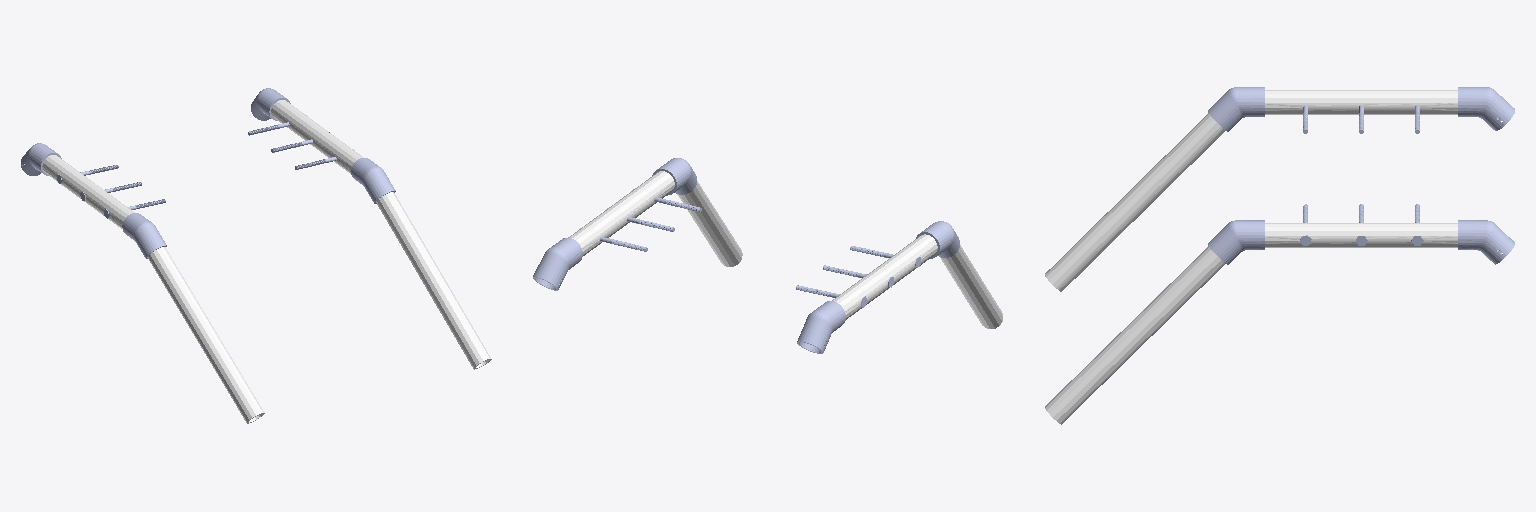
URDF robot description (model):
<?xml version="1.0" encoding="utf-8"?>
<!-- This URDF was automatically created by SolidWorks to URDF Exporter! Originally created by [author] ([email redacted]) 
     Commit Version: 1.6.0-4-g7f85cfe  Build Version: 1.6.7995.38578
     For more information, please see http://wiki.ros.org/sw_urdf_exporter -->
<robot
  name="model">
  <link
    name="base_link">
    <inertial>
      <origin
        xyz="-0.29968731948345 0.0150546907286856 0.283392114189934"
        rpy="0 0 0" />
      <mass
        value="2.34759592693503" />
      <inertia
        ixx="0.015530206027633"
        ixy="-4.93691539468484E-08"
        ixz="-4.63940097546656E-09"
        iyy="0.0296746402403189"
        iyz="-1.66552412321422E-08"
        izz="0.0155302069570008" />
    </inertial>
    <visual>
      <origin
        xyz="0 0 0"
        rpy="0 0 0" />
      <geometry>
        <mesh
          filename="package://model/meshes/base_link.STL" />
      </geometry>
      <material
        name="">
        <color
          rgba="1 1 1 1" />
      </material>
    </visual>
    <collision>
      <origin
        xyz="0 0 0"
        rpy="0 0 0" />
      <geometry>
        <mesh
          filename="package://model/meshes/base_link.STL" />
      </geometry>
    </collision>
  </link>
  <link
    name="j1">
    <inertial>
      <origin
        xyz="-2.96759241261157E-06 -3.56797101691564E-06 0.0752200553446624"
        rpy="0 0 0" />
      <mass
        value="0.0124427599561808" />
      <inertia
        ixx="2.88418476788695E-05"
        ixy="-6.3944784898376E-10"
        ixz="1.80748708345519E-09"
        iyy="2.88418985524994E-05"
        iyz="2.83899232833153E-09"
        izz="1.79907701813498E-07" />
    </inertial>
    <visual>
      <origin
        xyz="0 0 0"
        rpy="0 0 0" />
      <geometry>
        <mesh
          filename="package://model/meshes/j1.STL" />
      </geometry>
      <material
        name="">
        <color
          rgba="0.792156862745098 0.819607843137255 0.933333333333333 1" />
      </material>
    </visual>
    <collision>
      <origin
        xyz="0 0 0"
        rpy="0 0 0" />
      <geometry>
        <mesh
          filename="package://model/meshes/j1.STL" />
      </geometry>
    </collision>
  </link>
  <joint
    name="j1j"
    type="fixed">
    <origin
      xyz="-0.640703845182197 -0.170892114190977 0.0171571743856401"
      rpy="1.61425121647005 -0.973396199657673 1.53486063302741" />
    <parent
      link="base_link" />
    <child
      link="j1" />
    <axis
      xyz="0 0 0" />
  </joint>
  <link
    name="j2">
    <inertial>
      <origin
        xyz="-4.02273658009489E-06 3.72978937351887E-06 0.0752202712419333"
        rpy="0 0 0" />
      <mass
        value="0.0124428349830095" />
      <inertia
        ixx="2.88420137667292E-05"
        ixy="-6.38976900836879E-10"
        ixz="2.50481628728717E-09"
        iyy="2.88420685680027E-05"
        iyz="-1.61918499360904E-09"
        izz="1.80003992182993E-07" />
    </inertial>
    <visual>
      <origin
        xyz="0 0 0"
        rpy="0 0 0" />
      <geometry>
        <mesh
          filename="package://model/meshes/j2.STL" />
      </geometry>
      <material
        name="">
        <color
          rgba="0.792156862745098 0.819607843137255 0.933333333333333 1" />
      </material>
    </visual>
    <collision>
      <origin
        xyz="0 0 0"
        rpy="0 0 0" />
      <geometry>
        <mesh
          filename="package://model/meshes/j2.STL" />
      </geometry>
    </collision>
  </link>
  <joint
    name="j2j"
    type="fixed">
    <origin
      xyz="-0.640703845182197 -0.283392114190977 0.0171571743856417"
      rpy="1.60032038480546 0.595682292303972 1.58736479671933" />
    <parent
      link="base_link" />
    <child
      link="j2" />
    <axis
      xyz="0 0 0" />
  </joint>
  <link
    name="j3">
    <inertial>
      <origin
        xyz="2.40487493660679E-06 5.31688107430206E-06 0.0752233796482584"
        rpy="0 0 0" />
      <mass
        value="0.0124439057039495" />
      <inertia
        ixx="2.8843781866585E-05"
        ixy="-6.36853067712029E-10"
        ixz="-1.42399288202971E-09"
        iyy="2.88438358113457E-05"
        iyz="-2.62458879680497E-09"
        izz="1.79926169745957E-07" />
    </inertial>
    <visual>
      <origin
        xyz="0 0 0"
        rpy="0 0 0" />
      <geometry>
        <mesh
          filename="package://model/meshes/j3.STL" />
      </geometry>
      <material
        name="">
        <color
          rgba="0.792156862745098 0.819607843137255 0.933333333333333 1" />
      </material>
    </visual>
    <collision>
      <origin
        xyz="0 0 0"
        rpy="0 0 0" />
      <geometry>
        <mesh
          filename="package://model/meshes/j3.STL" />
      </geometry>
    </collision>
  </link>
  <joint
    name="j3j"
    type="fixed">
    <origin
      xyz="-0.640703845182197 -0.395892114190977 0.0171571743856432"
      rpy="-1.63240537854243 1.16268961435622 -1.62735692975832" />
    <parent
      link="base_link" />
    <child
      link="j3" />
    <axis
      xyz="0 0 0" />
  </joint>
  <link
    name="j4">
    <inertial>
      <origin
        xyz="-1.5190385564412E-06 7.75421974019697E-07 0.0752211304714997"
        rpy="0 0 0" />
      <mass
        value="0.0124431312114767" />
      <inertia
        ixx="2.88424934018769E-05"
        ixy="-6.61314791050855E-10"
        ixz="9.53139821032614E-10"
        iyy="2.88425478560905E-05"
        iyz="1.7662674540895E-10"
        izz="1.79959495452164E-07" />
    </inertial>
    <visual>
      <origin
        xyz="0 0 0"
        rpy="0 0 0" />
      <geometry>
        <mesh
          filename="package://model/meshes/j4.STL" />
      </geometry>
      <material
        name="">
        <color
          rgba="0.792156862745098 0.819607843137255 0.933333333333333 1" />
      </material>
    </visual>
    <collision>
      <origin
        xyz="0 0 0"
        rpy="0 0 0" />
      <geometry>
        <mesh
          filename="package://model/meshes/j4.STL" />
      </geometry>
    </collision>
  </link>
  <joint
    name="j4j"
    type="fixed">
    <origin
      xyz="0.0426840384927085 -0.170892114190977 0.0143655080816996"
      rpy="-1.56290070132919 -0.0444241209221738 1.57044567866055" />
    <parent
      link="base_link" />
    <child
      link="j4" />
    <axis
      xyz="0 0 0" />
  </joint>
  <link
    name="j5">
    <inertial>
      <origin
        xyz="-1.51837272321931E-06 7.82827667751562E-07 0.0752211314946248"
        rpy="0 0 0" />
      <mass
        value="0.0124431315637828" />
      <inertia
        ixx="2.8842494014167E-05"
        ixy="-6.61313567795625E-10"
        ixz="9.52780391010454E-10"
        iyy="2.88425484719197E-05"
        iyz="1.72093086640167E-10"
        izz="1.79959544238957E-07" />
    </inertial>
    <visual>
      <origin
        xyz="0 0 0"
        rpy="0 0 0" />
      <geometry>
        <mesh
          filename="package://model/meshes/j5.STL" />
      </geometry>
      <material
        name="">
        <color
          rgba="0.792156862745098 0.819607843137255 0.933333333333333 1" />
      </material>
    </visual>
    <collision>
      <origin
        xyz="0 0 0"
        rpy="0 0 0" />
      <geometry>
        <mesh
          filename="package://model/meshes/j5.STL" />
      </geometry>
    </collision>
  </link>
  <joint
    name="j5j"
    type="fixed">
    <origin
      xyz="0.0426840384927086 -0.283392114190977 0.0143655080817012"
      rpy="-1.56289907800343 -0.0488297991804797 1.57041085095208" />
    <parent
      link="base_link" />
    <child
      link="j5" />
    <axis
      xyz="0 0 0" />
  </joint>
  <link
    name="j6">
    <inertial>
      <origin
        xyz="-1.43669483909648E-06 1.16870107200184E-06 0.0752212063131131"
        rpy="0 0 0" />
      <mass
        value="0.0124431573300757" />
      <inertia
        ixx="2.88425383986866E-05"
        ixy="-6.61237350133504E-10"
        ixz="9.05290738213582E-10"
        iyy="2.88425930290167E-05"
        iyz="-6.4359282561795E-11"
        izz="1.79962020429486E-07" />
    </inertial>
    <visual>
      <origin
        xyz="0 0 0"
        rpy="0 0 0" />
      <geometry>
        <mesh
          filename="package://model/meshes/j6.STL" />
      </geometry>
      <material
        name="">
        <color
          rgba="0.792156862745098 0.819607843137255 0.933333333333333 1" />
      </material>
    </visual>
    <collision>
      <origin
        xyz="0 0 0"
        rpy="0 0 0" />
      <geometry>
        <mesh
          filename="package://model/meshes/j6.STL" />
      </geometry>
    </collision>
  </link>
  <joint
    name="j6j"
    type="fixed">
    <origin
      xyz="0.0426840384927085 -0.395892114190977 0.0143655080817028"
      rpy="-1.56258164354177 -0.283033779643944 1.56850216460058" />
    <parent
      link="base_link" />
    <child
      link="j6" />
    <axis
      xyz="0 0 0" />
  </joint>
  <link
    name="c1">
    <inertial>
      <origin
        xyz="5.67752562741219E-08 -7.50847038190339E-09 0.225000029977437"
        rpy="0 0 0" />
      <mass
        value="0.410430097030497" />
      <inertia
        ixx="0.0070579338237649"
        ixy="4.22623146548173E-10"
        ixz="-2.31977483593179E-09"
        iyy="0.00705640614879541"
        iyz="3.5007746864512E-11"
        izz="0.000210358543028732" />
    </inertial>
    <visual>
      <origin
        xyz="0 0 0"
        rpy="0 0 0" />
      <geometry>
        <mesh
          filename="package://model/meshes/c1.STL" />
      </geometry>
      <material
        name="">
        <color
          rgba="1 1 1 1" />
      </material>
    </visual>
    <collision>
      <origin
        xyz="0 0 0"
        rpy="0 0 0" />
      <geometry>
        <mesh
          filename="package://model/meshes/c1.STL" />
      </geometry>
    </collision>
  </link>
  <joint
    name="c1j"
    type="fixed">
    <origin
      xyz="-0.614211757826941 -0.058392114190977 0.0165096347640639"
      rpy="1.5707963267949 0.0244378897725005 0" />
    <parent
      link="base_link" />
    <child
      link="c1" />
    <axis
      xyz="0 0 0" />
  </joint>
  <link
    name="c2">
    <inertial>
      <origin
        xyz="5.67752567598445E-08 -7.50847032292279E-09 0.225000029977437"
        rpy="0 0 0" />
      <mass
        value="0.410430097030497" />
      <inertia
        ixx="0.00705793382376491"
        ixy="4.22623146551561E-10"
        ixz="-2.31977484692879E-09"
        iyy="0.00705640614879542"
        iyz="3.50077453179077E-11"
        izz="0.000210358543028732" />
    </inertial>
    <visual>
      <origin
        xyz="0 0 0"
        rpy="0 0 0" />
      <geometry>
        <mesh
          filename="package://model/meshes/c2.STL" />
      </geometry>
      <material
        name="">
        <color
          rgba="1 1 1 1" />
      </material>
    </visual>
    <collision>
      <origin
        xyz="0 0 0"
        rpy="0 0 0" />
      <geometry>
        <mesh
          filename="package://model/meshes/c2.STL" />
      </geometry>
    </collision>
  </link>
  <joint
    name="c2j"
    type="fixed">
    <origin
      xyz="0.0161848628762708 -0.0583921141909775 0.0145745335566826"
      rpy="1.5707963267949 0.00788783556690779 0" />
    <parent
      link="base_link" />
    <child
      link="c2" />
    <axis
      xyz="0 0 0" />
  </joint>
  <link
    name="cj1">
    <inertial>
      <origin
        xyz="0.000131826367471173 0.00664780238235534 3.55632457926802E-07"
        rpy="0 0 0" />
      <mass
        value="0.109353843562398" />
      <inertia
        ixx="8.42944567415472E-05"
        ixy="-1.10261596875911E-07"
        ixz="1.83860497113017E-11"
        iyy="0.000130111255859567"
        iyz="-2.18138180299229E-11"
        izz="0.000133913187896849" />
    </inertial>
    <visual>
      <origin
        xyz="0 0 0"
        rpy="0 0 0" />
      <geometry>
        <mesh
          filename="package://model/meshes/cj1.STL" />
      </geometry>
      <material
        name="">
        <color
          rgba="0.792156862745098 0.819607843137255 0.933333333333333 1" />
      </material>
    </visual>
    <collision>
      <origin
        xyz="0 0 0"
        rpy="0 0 0" />
      <geometry>
        <mesh
          filename="package://model/meshes/cj1.STL" />
      </geometry>
    </collision>
  </link>
  <joint
    name="cj1j"
    type="fixed">
    <origin
      xyz="-0.614211757826941 -0.033392114190977 0.0165096347640635"
      rpy="-1.53403712639217 -0.392460217436101 -1.58486075965206" />
    <parent
      link="base_link" />
    <child
      link="cj1" />
    <axis
      xyz="0 0 0" />
  </joint>
  <link
    name="cj2">
    <inertial>
      <origin
        xyz="0.000131820104037492 0.00664781764334291 3.36388961214018E-07"
        rpy="0 0 0" />
      <mass
        value="0.109353828693636" />
      <inertia
        ixx="8.42944502187915E-05"
        ixy="-1.10262752978614E-07"
        ixz="1.96483880576302E-11"
        iyy="0.000130111272001604"
        iyz="-3.30455749533897E-11"
        izz="0.000133913161375556" />
    </inertial>
    <visual>
      <origin
        xyz="0 0 0"
        rpy="0 0 0" />
      <geometry>
        <mesh
          filename="package://model/meshes/cj2.STL" />
      </geometry>
      <material
        name="">
        <color
          rgba="0.792156862745098 0.819607843137255 0.933333333333333 1" />
      </material>
    </visual>
    <collision>
      <origin
        xyz="0 0 0"
        rpy="0 0 0" />
      <geometry>
        <mesh
          filename="package://model/meshes/cj2.STL" />
      </geometry>
    </collision>
  </link>
  <joint
    name="cj2j"
    type="fixed">
    <origin
      xyz="0.0161848628762708 -0.0333921141909774 0.0145745335566822"
      rpy="-1.40724846865795 -0.3879720036265 -1.63314513100627" />
    <parent
      link="base_link" />
    <child
      link="cj2" />
    <axis
      xyz="0 0 0" />
  </joint>
  <link
    name="cj3">
    <inertial>
      <origin
        xyz="-1.0407292259651E-06 0.00667385000080523 2.04672582215792E-07"
        rpy="0 0 0" />
      <mass
        value="0.109747781539409" />
      <inertia
        ixx="8.46147711907554E-05"
        ixy="-1.28966450762608E-10"
        ixz="7.98226318571589E-12"
        iyy="0.000130955724543017"
        iyz="-3.09556056206683E-11"
        izz="0.000134483633272278" />
    </inertial>
    <visual>
      <origin
        xyz="0 0 0"
        rpy="0 0 0" />
      <geometry>
        <mesh
          filename="package://model/meshes/cj3.STL" />
      </geometry>
      <material
        name="">
        <color
          rgba="0.792156862745098 0.819607843137255 0.933333333333333 1" />
      </material>
    </visual>
    <collision>
      <origin
        xyz="0 0 0"
        rpy="0 0 0" />
      <geometry>
        <mesh
          filename="package://model/meshes/cj3.STL" />
      </geometry>
    </collision>
  </link>
  <joint
    name="cj3j"
    type="fixed">
    <origin
      xyz="-0.614211757826941 -0.533392114190977 0.0165096347640705"
      rpy="-1.30084693832193 0.379827371758339 -1.46856330178631" />
    <parent
      link="base_link" />
    <child
      link="cj3" />
    <axis
      xyz="0 0 0" />
  </joint>
  <link
    name="cj4">
    <inertial>
      <origin
        xyz="-1.03940842066663E-06 0.00667384790392811 2.0580490882674E-07"
        rpy="0 0 0" />
      <mass
        value="0.109747784324217" />
      <inertia
        ixx="8.46147711871583E-05"
        ixy="-1.2885362083085E-10"
        ixz="7.86064003746044E-12"
        iyy="0.000130955724888274"
        iyz="-3.08972531417946E-11"
        izz="0.000134483633389463" />
    </inertial>
    <visual>
      <origin
        xyz="0 0 0"
        rpy="0 0 0" />
      <geometry>
        <mesh
          filename="package://model/meshes/cj4.STL" />
      </geometry>
      <material
        name="">
        <color
          rgba="0.792156862745098 0.819607843137255 0.933333333333333 1" />
      </material>
    </visual>
    <collision>
      <origin
        xyz="0 0 0"
        rpy="0 0 0" />
      <geometry>
        <mesh
          filename="package://model/meshes/cj4.STL" />
      </geometry>
    </collision>
  </link>
  <joint
    name="cj4j"
    type="fixed">
    <origin
      xyz="0.0161848628762708 -0.533392114190978 0.0145745335566892"
      rpy="-1.31760402316554 0.38137459275149 -1.47478832617948" />
    <parent
      link="base_link" />
    <child
      link="cj4" />
    <axis
      xyz="0 0 0" />
  </joint>
  <link
    name="c3">
    <inertial>
      <origin
        xyz="-3.33066907387547E-16 1.11022302462516E-16 0.25"
        rpy="0 0 0" />
      <mass
        value="0.459457925587507" />
      <inertia
        ixx="0.0096897762098382"
        ixy="0"
        ixz="1.02728155843002E-17"
        iyy="0.00968977620983819"
        iyz="-2.11419423634673E-18"
        izz="0.000235472186863597" />
    </inertial>
    <visual>
      <origin
        xyz="0 0 0"
        rpy="0 0 0" />
      <geometry>
        <mesh
          filename="package://model/meshes/c3.STL" />
      </geometry>
      <material
        name="">
        <color
          rgba="1 1 1 1" />
      </material>
    </visual>
    <collision>
      <origin
        xyz="0 0 0"
        rpy="0 0 0" />
      <geometry>
        <mesh
          filename="package://model/meshes/c3.STL" />
      </geometry>
    </collision>
  </link>
  <joint
    name="c3j"
    type="fixed">
    <origin
      xyz="-0.609833426421495 -0.551069783720641 -0.000617250945365274"
      rpy="2.33473366420582 0.139234573857026 0.374967370425357" />
    <parent
      link="base_link" />
    <child
      link="c3" />
    <axis
      xyz="0 0 0" />
  </joint>
  <link
    name="c4">
    <inertial>
      <origin
        xyz="6.66133814775094E-16 -8.60422844084496E-16 0.25"
        rpy="0 0 0" />
      <mass
        value="0.459457925587507" />
      <inertia
        ixx="0.00968977620983821"
        ixy="3.03576608295941E-18"
        ixz="-2.68814376140625E-17"
        iyy="0.0096897762098382"
        iyz="3.2702248027594E-17"
        izz="0.000235472186863602" />
    </inertial>
    <visual>
      <origin
        xyz="0 0 0"
        rpy="0 0 0" />
      <geometry>
        <mesh
          filename="package://model/meshes/c4.STL" />
      </geometry>
      <material
        name="">
        <color
          rgba="1 1 1 1" />
      </material>
    </visual>
    <collision>
      <origin
        xyz="0 0 0"
        rpy="0 0 0" />
      <geometry>
        <mesh
          filename="package://model/meshes/c4.STL" />
      </geometry>
    </collision>
  </link>
  <joint
    name="c4j"
    type="fixed">
    <origin
      xyz="0.0202948964934318 -0.551069783720641 -0.00261870999029159"
      rpy="2.45752657393228 0.479160548743388 0.743032082405507" />
    <parent
      link="base_link" />
    <child
      link="c4" />
    <axis
      xyz="0 0 0" />
  </joint>
</robot>

--- What the picture shows (computed from the rendered views, not written in the file) ---
3 views of the same robot in one strip: view 1: azimuth 30°, elevation 25°; view 2: azimuth 150°, elevation 25°; view 3: azimuth 270°, elevation 25° (orthographic).
Model model with 15 links and 14 joints (14 fixed), rooted at base_link, posed every joint at zero.
Visible links, largest first — view 1: c4, c3, c2, c1, cj4, cj3, cj1, cj2; view 2: c2, c1, c3, c4, cj1, cj2, cj3, cj4; view 3: c3, c4, c1, c2, cj1, cj2, cj4, cj3.
Boxes of the visible links, x1,y1,x2,y2 form: c4: (376, 192, 491, 369); c3: (147, 247, 264, 423); c2: (271, 100, 363, 173); c1: (42, 155, 134, 228); cj4: (351, 158, 395, 203); cj3: (122, 213, 166, 258); cj1: (21, 143, 61, 175); cj2: (251, 88, 290, 120); c2: (568, 171, 674, 255); c1: (832, 234, 937, 319); c3: (940, 245, 1002, 328); c4: (677, 181, 742, 266); cj1: (797, 301, 845, 353); cj2: (533, 238, 582, 290); cj3: (916, 221, 959, 258); cj4: (652, 158, 696, 195); c3: (1045, 113, 1225, 291); c4: (1045, 246, 1225, 424); c1: (1265, 90, 1457, 114); c2: (1265, 223, 1457, 247); cj1: (1458, 87, 1514, 130); cj2: (1458, 220, 1514, 264); cj4: (1208, 220, 1264, 264); cj3: (1208, 87, 1264, 131).
Bounding box of the posed robot: 0.7709 × 0.9488 × 0.4109 m (x, y, z).
Meshes: 15 distinct files referenced, 14 mesh visuals loaded (14 binary STL); not drawn: 1 (reference not matched to a file when rendering).